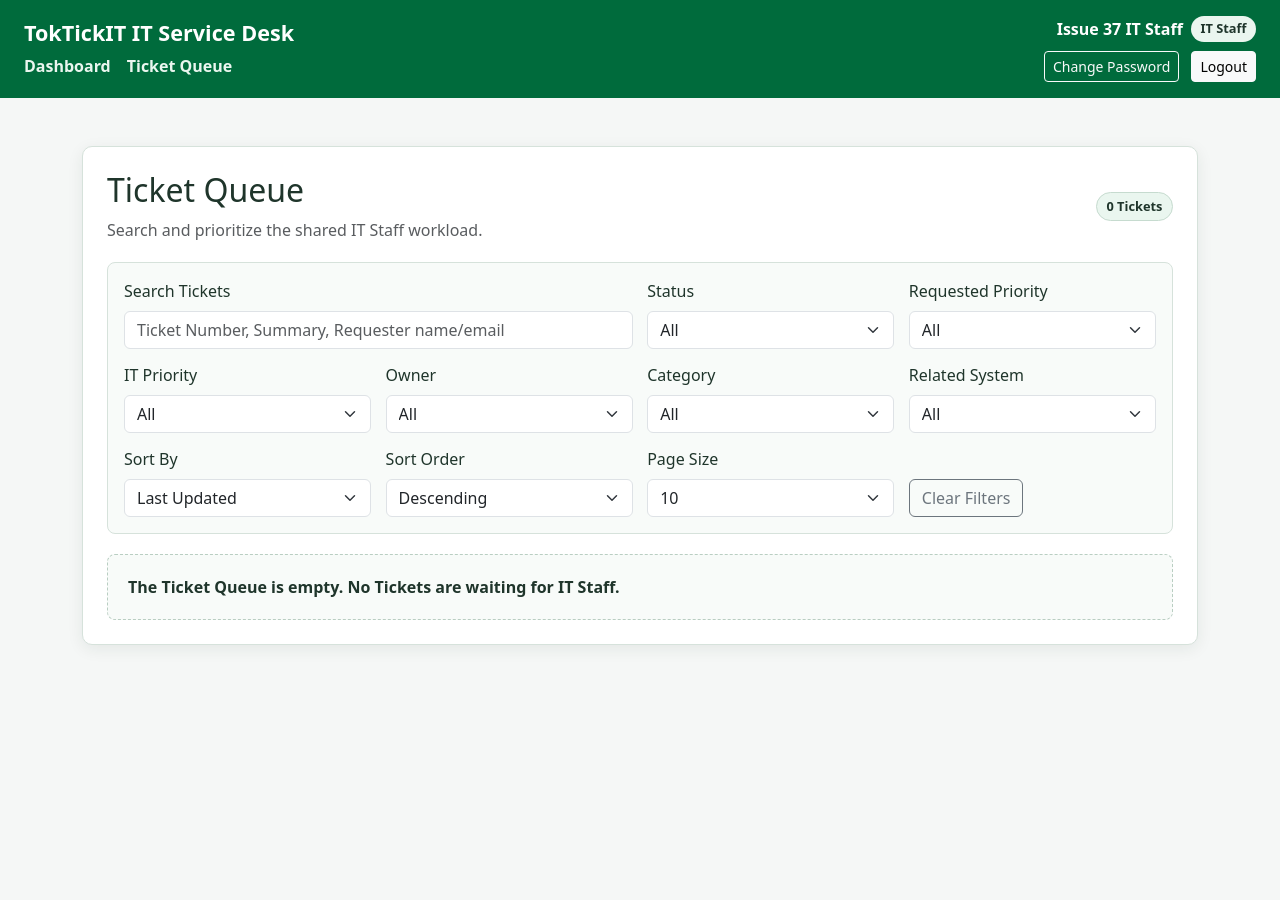
Test: Lab 3 Issue 5 IT Staff Ticket Queue UI › UI-06 distinguishes an empty Queue from a no-results query and offers Clear Filters for no results
Type "does-not-exist" into the field labelled "Search Tickets". click: (378, 330)
box: [124,310,633,348]
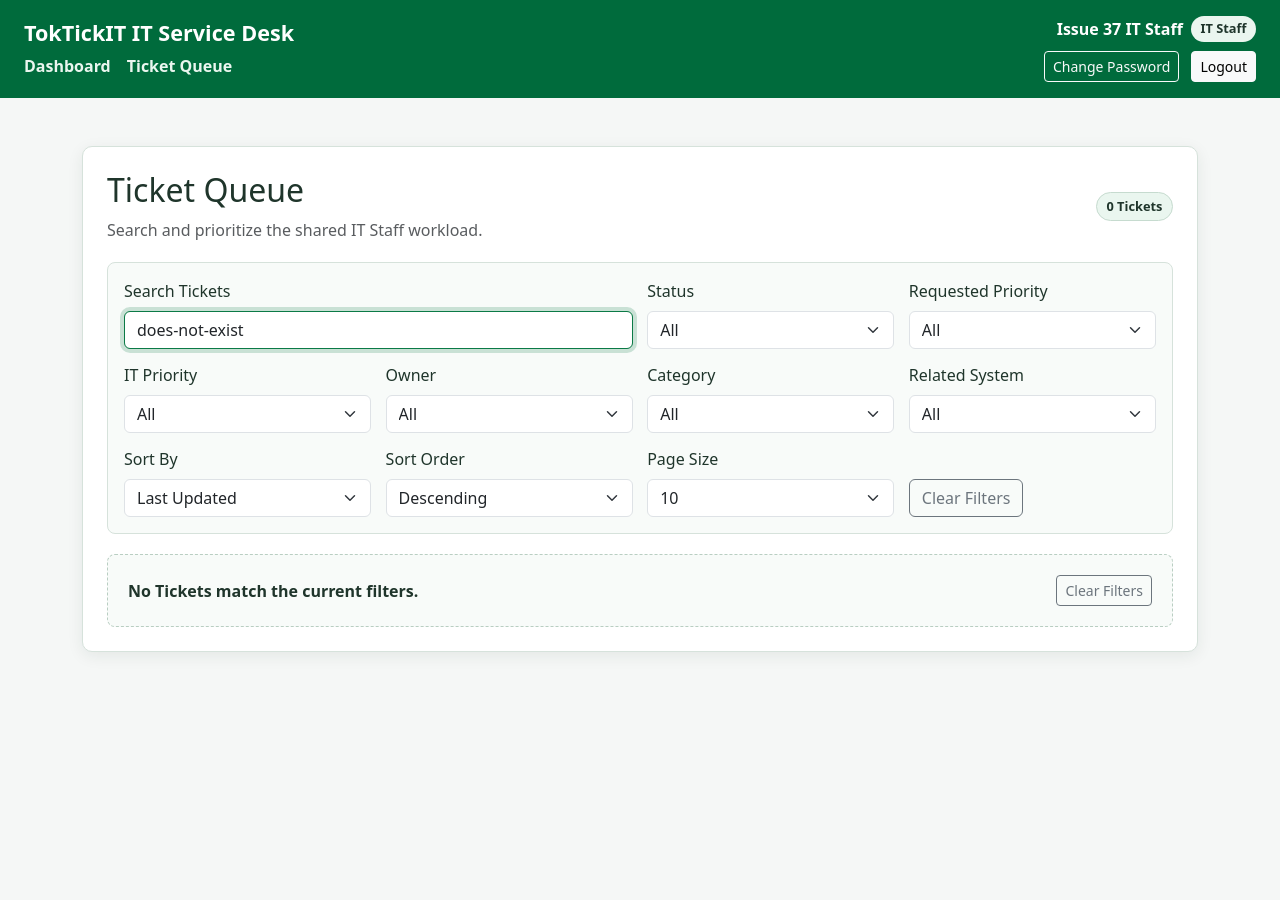
Check: the button "Clear Filters" below "Page Size" is shown, box [909,479,1023,517]
Check: the text "No Tickets match the current filters." is shown, box [128,579,418,603]
